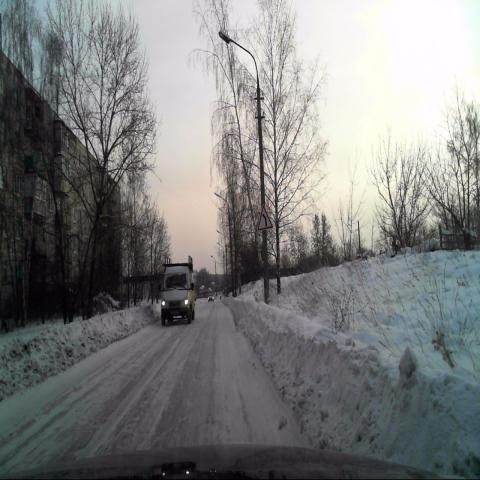1_11_1: (256, 204, 273, 231)
